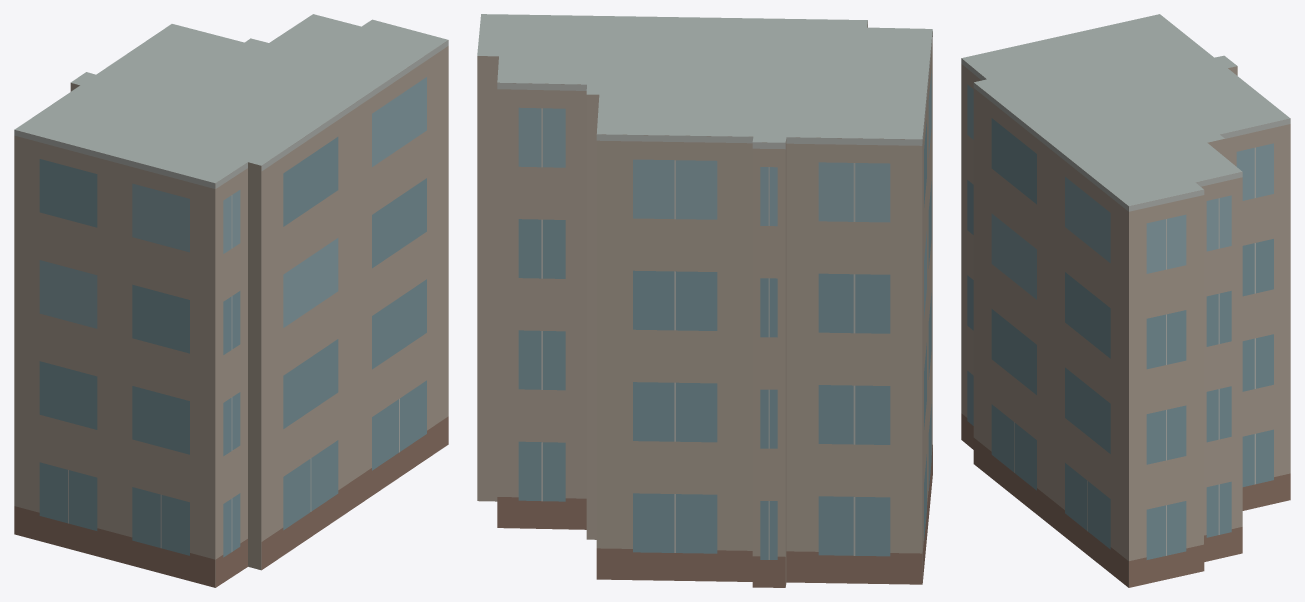
Rendered from survey-upis-32689721.glb.
3 renders of one model, left to right at view 1: azimuth 30°, elevation 25°; view 2: azimuth 150°, elevation 25°; view 3: azimuth 270°, elevation 25°, orthographic. The views are drawn at different scales.
Parts seen in each view (by area): view 1: survey-upis-32689721.tmp; view 2: survey-upis-32689721.tmp; view 3: survey-upis-32689721.tmp.
Part boxes in pixels (x1,y1,x2,y2): survey-upis-32689721.tmp: (14, 14, 448, 587); survey-upis-32689721.tmp: (477, 14, 932, 587); survey-upis-32689721.tmp: (961, 14, 1290, 587).
Size of the model in its own units: 18.16 by 16.8 by 13.14.
